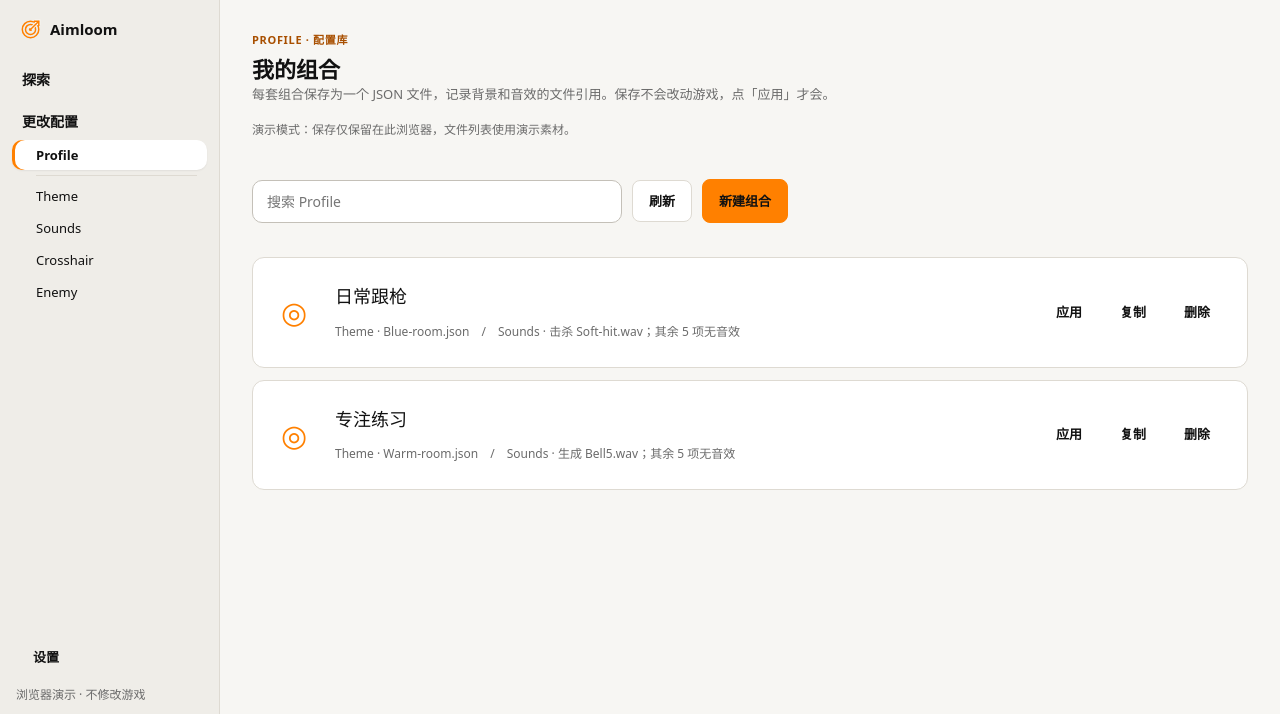
it: workspace: 更改配置 and 探索 › keeps the unsaved Profile marker on the collapsed 更改配置 entry
This screenshot has width=1280, height=714.
Click the button "新建组合" at (745, 201), box [702, 179, 788, 223]
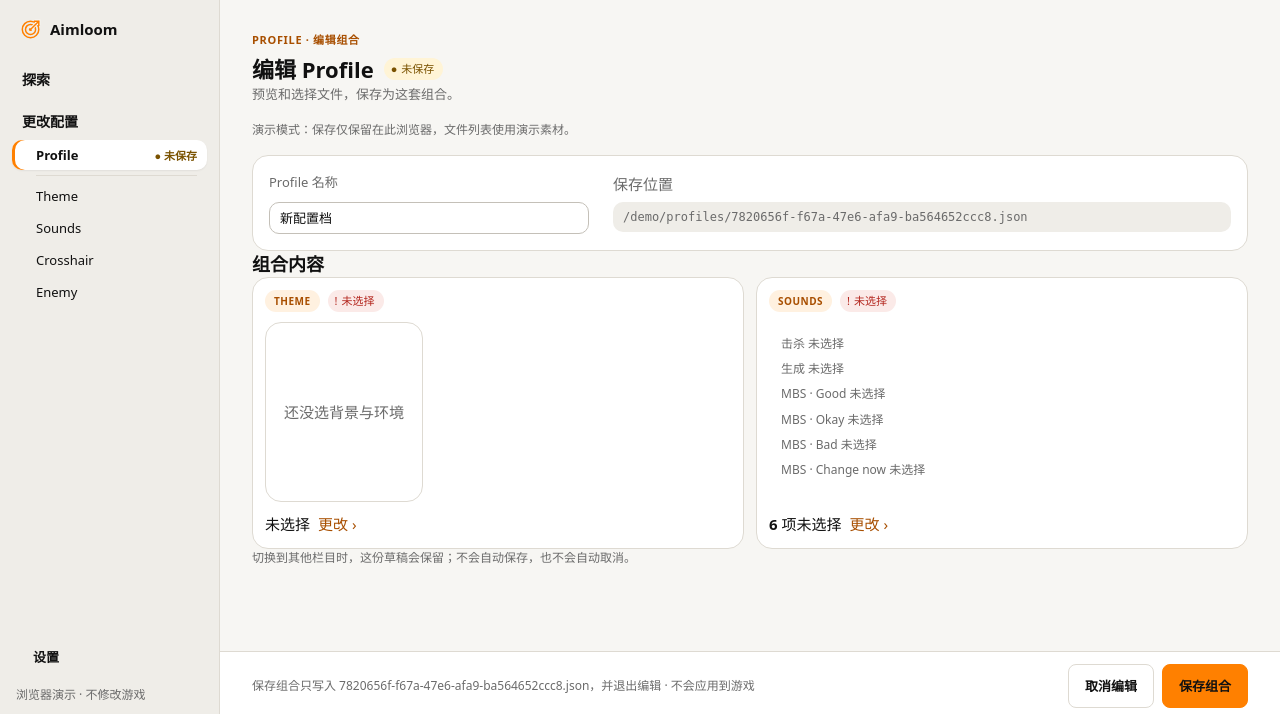
Replace the text in the field labelled "Profile 名称" with "探索草稿" at (429, 218), box [269, 202, 589, 234]
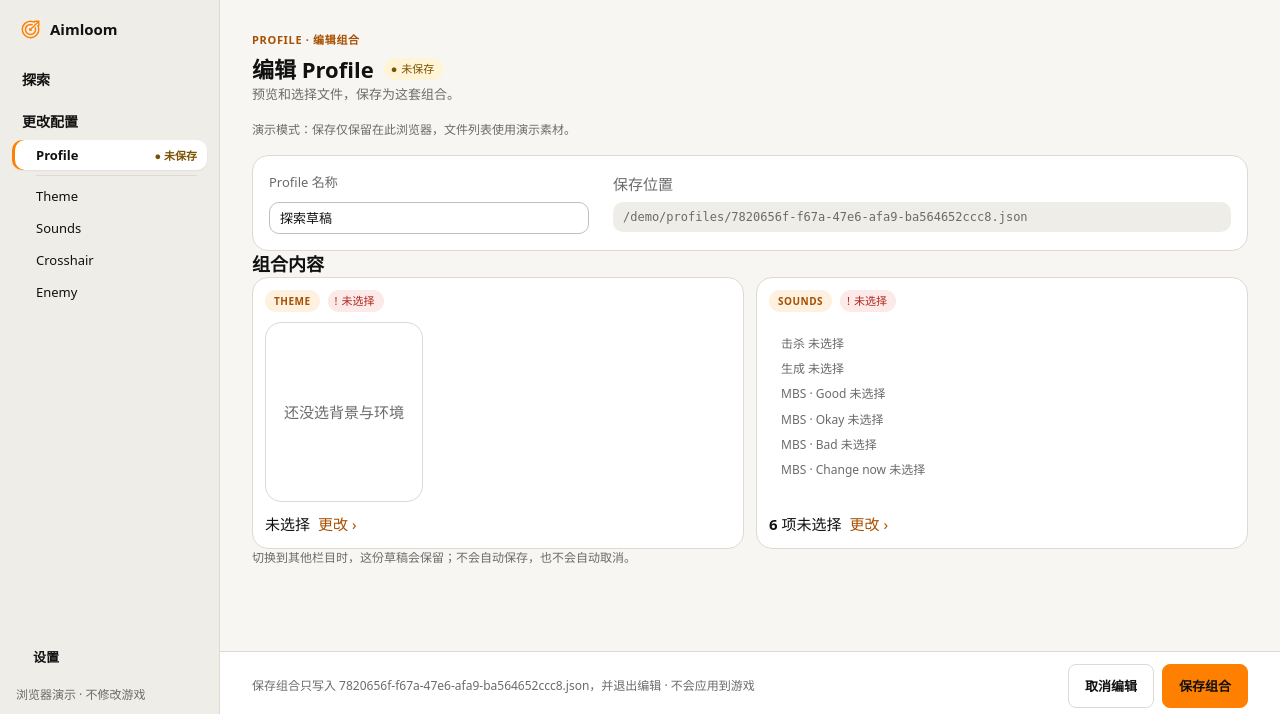
Click the button "探索" at (110, 79), box [12, 62, 207, 96]
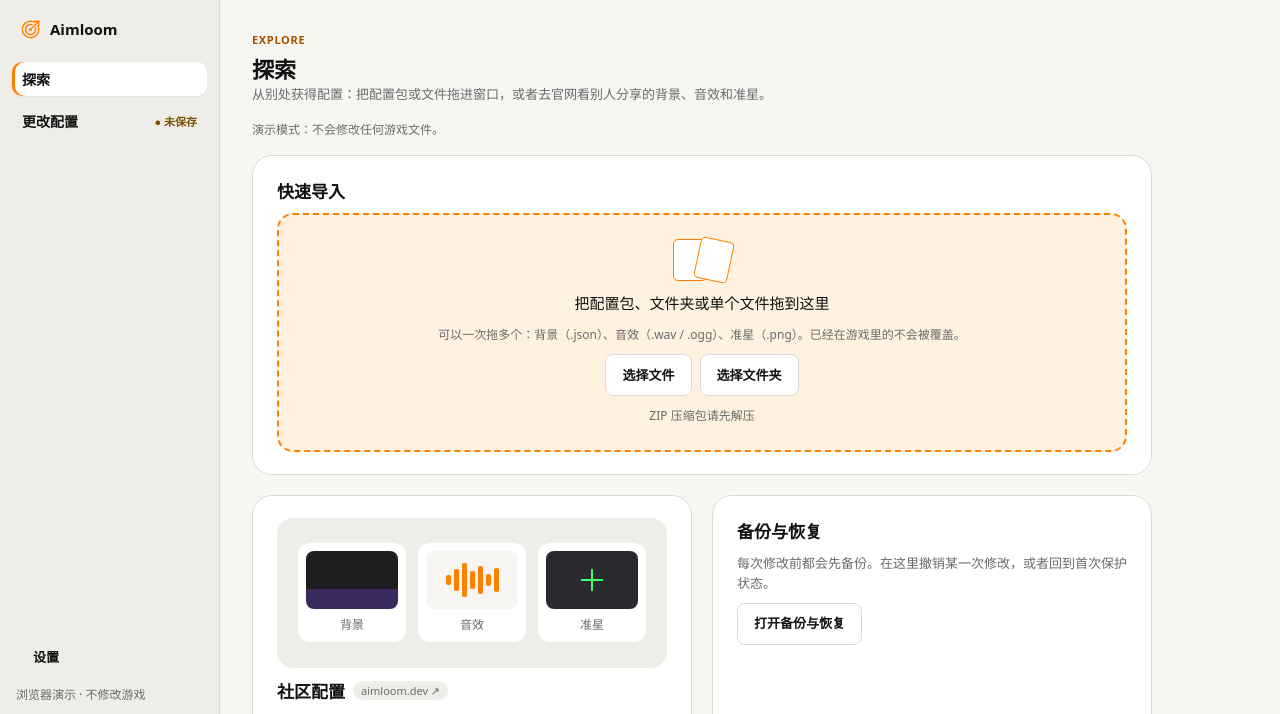
Click the button with aria-label "更改配置（未保存）" at (110, 121), box [12, 104, 207, 138]
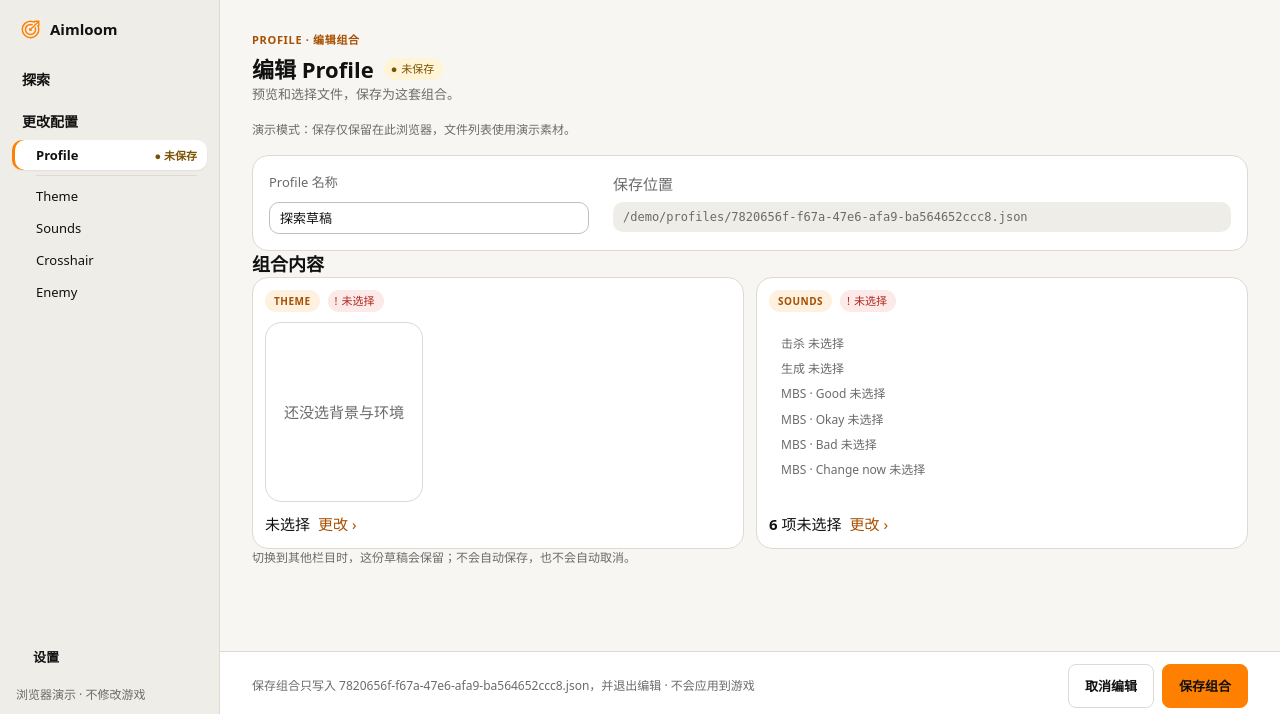
Expected: the field labelled "Profile 名称" holds "探索草稿", [269, 202, 589, 234]
